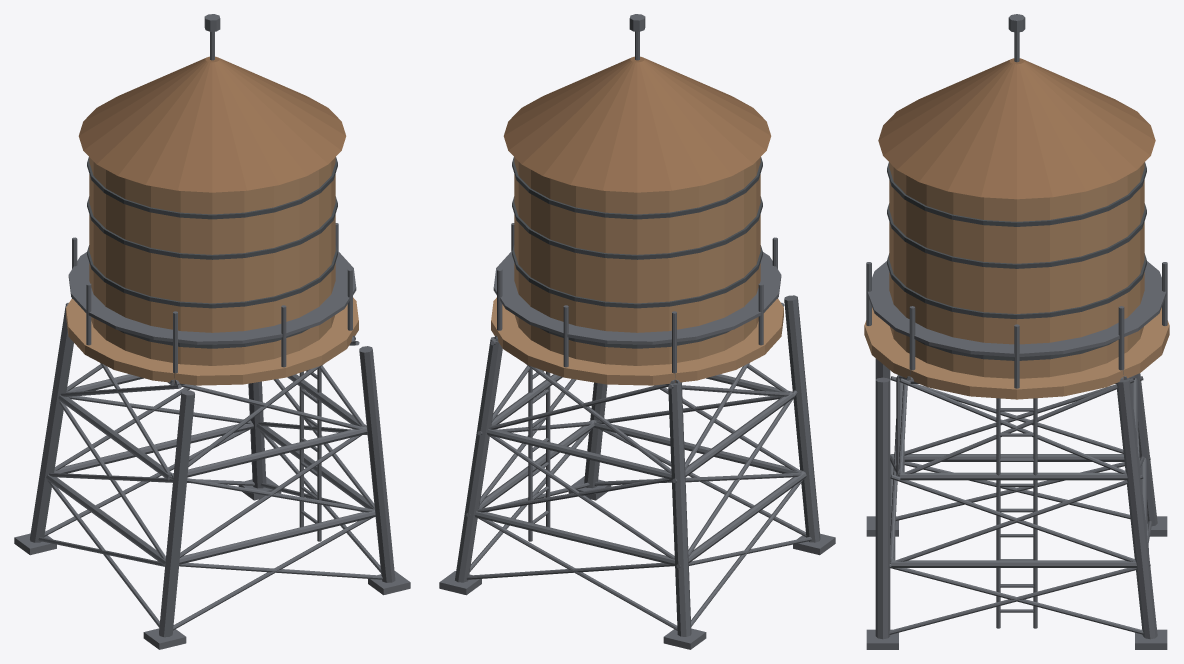
Rendered from water_tower.glb.
3 views of the same model, side by side, from view 1: azimuth 30°, elevation 25°; view 2: azimuth 150°, elevation 25°; view 3: azimuth 270°, elevation 25° (orthographic). The views are drawn at different scales.
Parts seen in each view (by area): view 1: TankBody, Roof, Catwalk, CatwalkRing, Leg_2, Leg_3, Leg_0, HBrace.002, Hoop.001, Hoop.002, Hoop.003, HBrace.006 (+27 smaller); view 2: TankBody, Roof, Catwalk, CatwalkRing, Leg_0, Leg_2, Leg_1, HBrace, Hoop.001, Hoop.002, Hoop.003, HBrace.004 (+26 smaller); view 3: TankBody, Roof, Catwalk, CatwalkRing, Leg_3, Leg_1, HBrace.005, HBrace.001, Hoop.002, Hoop.003, Hoop.001, HBrace.003 (+21 smaller).
Part boxes in pixels (<box>): TankBody: <box>89,157,335,365</box>; Roof: <box>78,56,346,192</box>; Catwalk: <box>66,297,358,385</box>; CatwalkRing: <box>68,251,356,344</box>; Leg_2: <box>159,390,194,637</box>; Leg_3: <box>359,346,395,582</box>; Leg_0: <box>30,305,73,542</box>; HBrace.002: <box>179,509,375,564</box>; Hoop.001: <box>87,245,337,308</box>; Hoop.002: <box>87,196,337,259</box>; Hoop.003: <box>87,157,337,219</box>; HBrace.006: <box>171,426,367,478</box>; TankBody: <box>514,157,760,365</box>; Roof: <box>503,56,771,192</box>; Catwalk: <box>491,297,783,385</box>; CatwalkRing: <box>493,251,781,344</box>; Leg_0: <box>668,382,691,636</box>; Leg_2: <box>784,295,820,542</box>; Leg_1: <box>455,337,502,582</box>; HBrace: <box>474,511,674,565</box>; Hoop.001: <box>512,245,762,308</box>; Hoop.002: <box>512,196,762,259</box>; Hoop.003: <box>512,157,762,219</box>; HBrace.004: <box>486,429,671,479</box>; TankBody: <box>889,162,1144,378</box>; Roof: <box>878,58,1155,199</box>; Catwalk: <box>864,307,1169,399</box>; CatwalkRing: <box>867,261,1166,357</box>; Leg_3: <box>875,377,890,639</box>; Leg_1: <box>1116,378,1157,639</box>; HBrace.005: <box>900,472,1127,480</box>; HBrace.001: <box>891,560,1136,567</box>; Hoop.002: <box>887,203,1146,268</box>; Hoop.003: <box>887,162,1146,226</box>; Hoop.001: <box>887,253,1146,319</box>; HBrace.003: <box>891,454,1124,461</box>.
Size of the model in its own units: 3.3 by 6.8 by 3.3.
